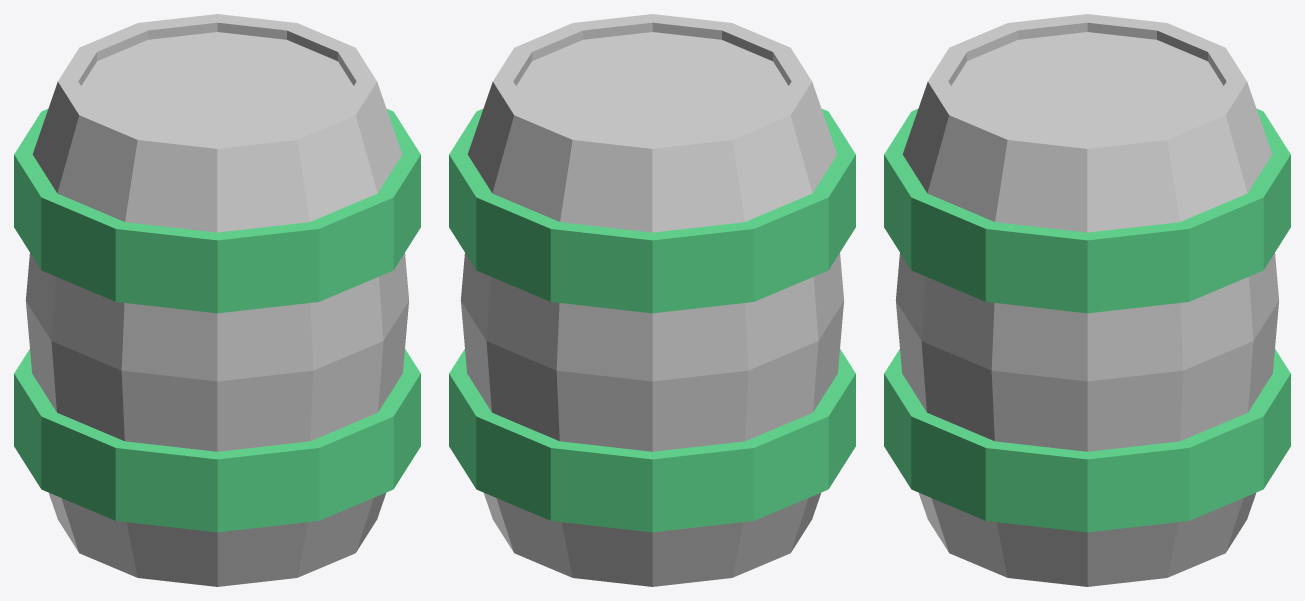
Rendered from Barrel_01.fbx.
The picture shows the model from 3 angles, left to right: view 1: azimuth 30°, elevation 25°; view 2: azimuth 150°, elevation 25°; view 3: azimuth 270°, elevation 25°; orthographic projection.
Visible parts, largest first — view 1: Barrel_01; view 2: Barrel_01; view 3: Barrel_01.
Boxes of the visible parts, box(x1,y1,x2,y2) form: Barrel_01: box(14, 14, 420, 586); Barrel_01: box(449, 14, 855, 586); Barrel_01: box(884, 14, 1290, 586).
Size of the model in its own units: 82.47 by 98 by 82.47.
